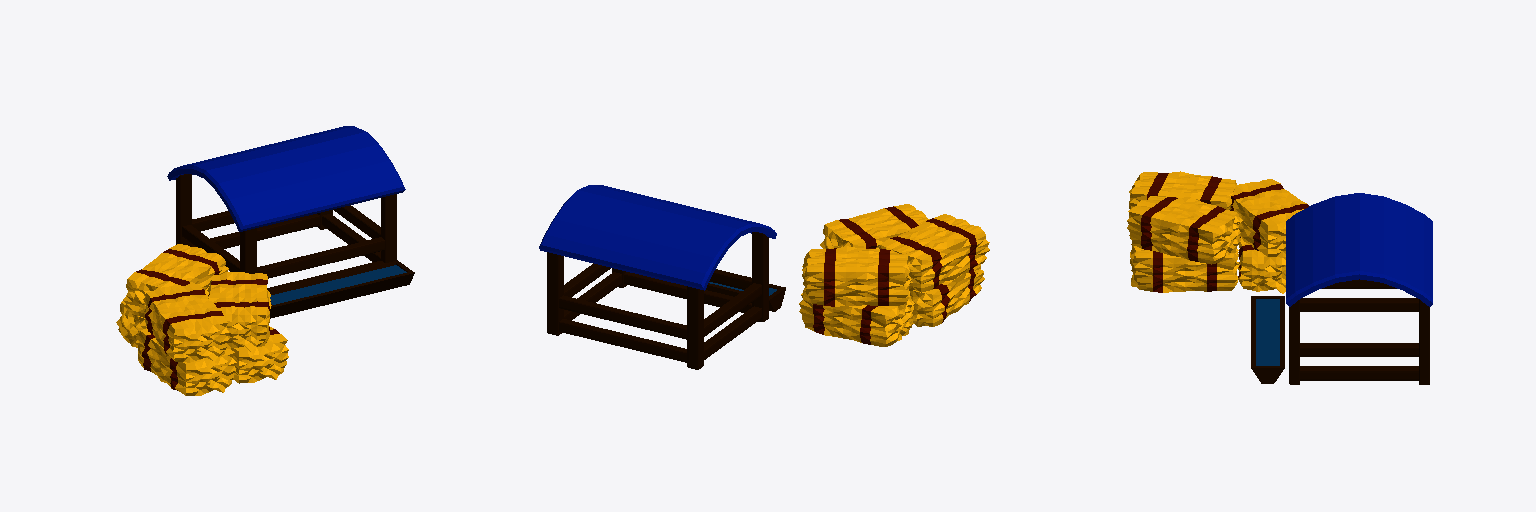
File: Stable_BlueTeam.obj
3 renders of one model, left to right at view 1: azimuth 30°, elevation 25°; view 2: azimuth 150°, elevation 25°; view 3: azimuth 270°, elevation 25°, orthographic.
Visible parts, largest first — view 1: Stables_BlueTeam_Cube.016; view 2: Stables_BlueTeam_Cube.016; view 3: Stables_BlueTeam_Cube.016.
Boxes of the visible parts, x1=… form: Stables_BlueTeam_Cube.016: x1=116, y1=126, x2=414, y2=395; Stables_BlueTeam_Cube.016: x1=539, y1=185, x2=989, y2=369; Stables_BlueTeam_Cube.016: x1=1127, y1=171, x2=1432, y2=384.
Bounding box in the file's own units: 33.28 × 12.19 × 28.95.